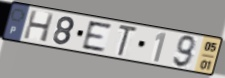1: (152, 32, 168, 64)
8: (52, 15, 75, 46)
9: (172, 34, 199, 70)
E: (81, 20, 113, 53)
H: (22, 9, 56, 44)
T: (115, 23, 140, 57)
